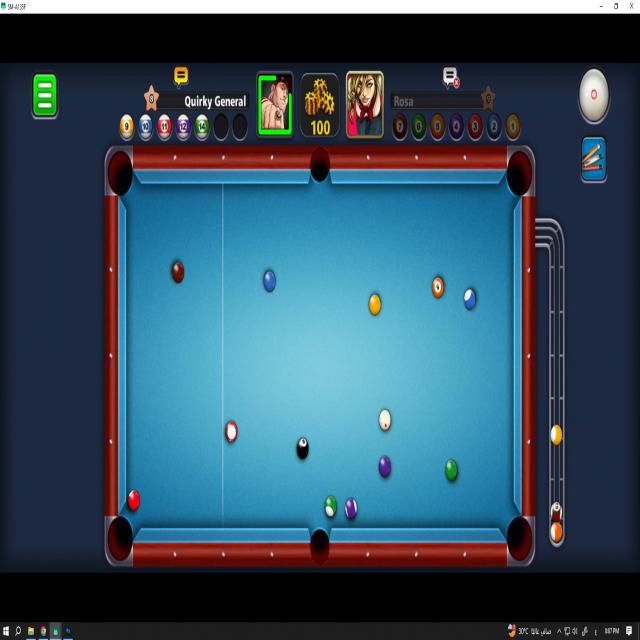object_ball: (225, 421, 238, 442), (297, 438, 309, 460), (446, 460, 458, 481), (172, 262, 184, 283), (369, 294, 380, 315), (345, 498, 356, 519), (379, 456, 390, 477), (264, 271, 275, 292), (464, 289, 475, 310), (325, 496, 336, 517), (432, 278, 443, 298), (128, 491, 139, 510)
white_cue_ball: (379, 409, 390, 430)
